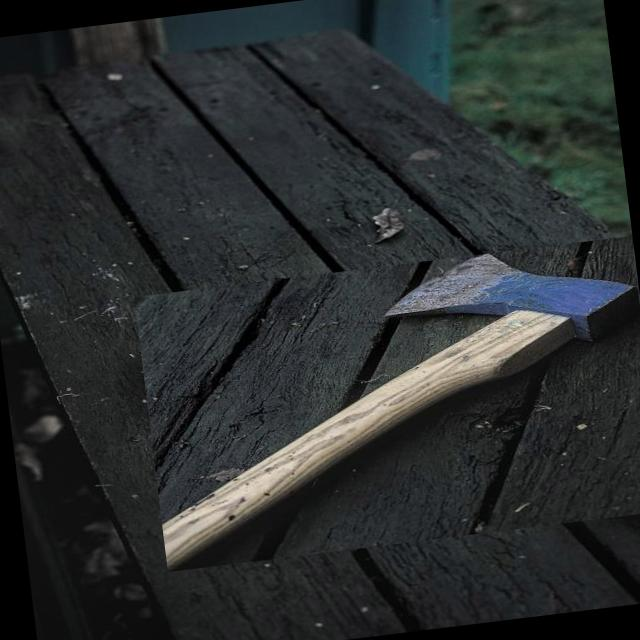Axe: (163, 254, 640, 571)
